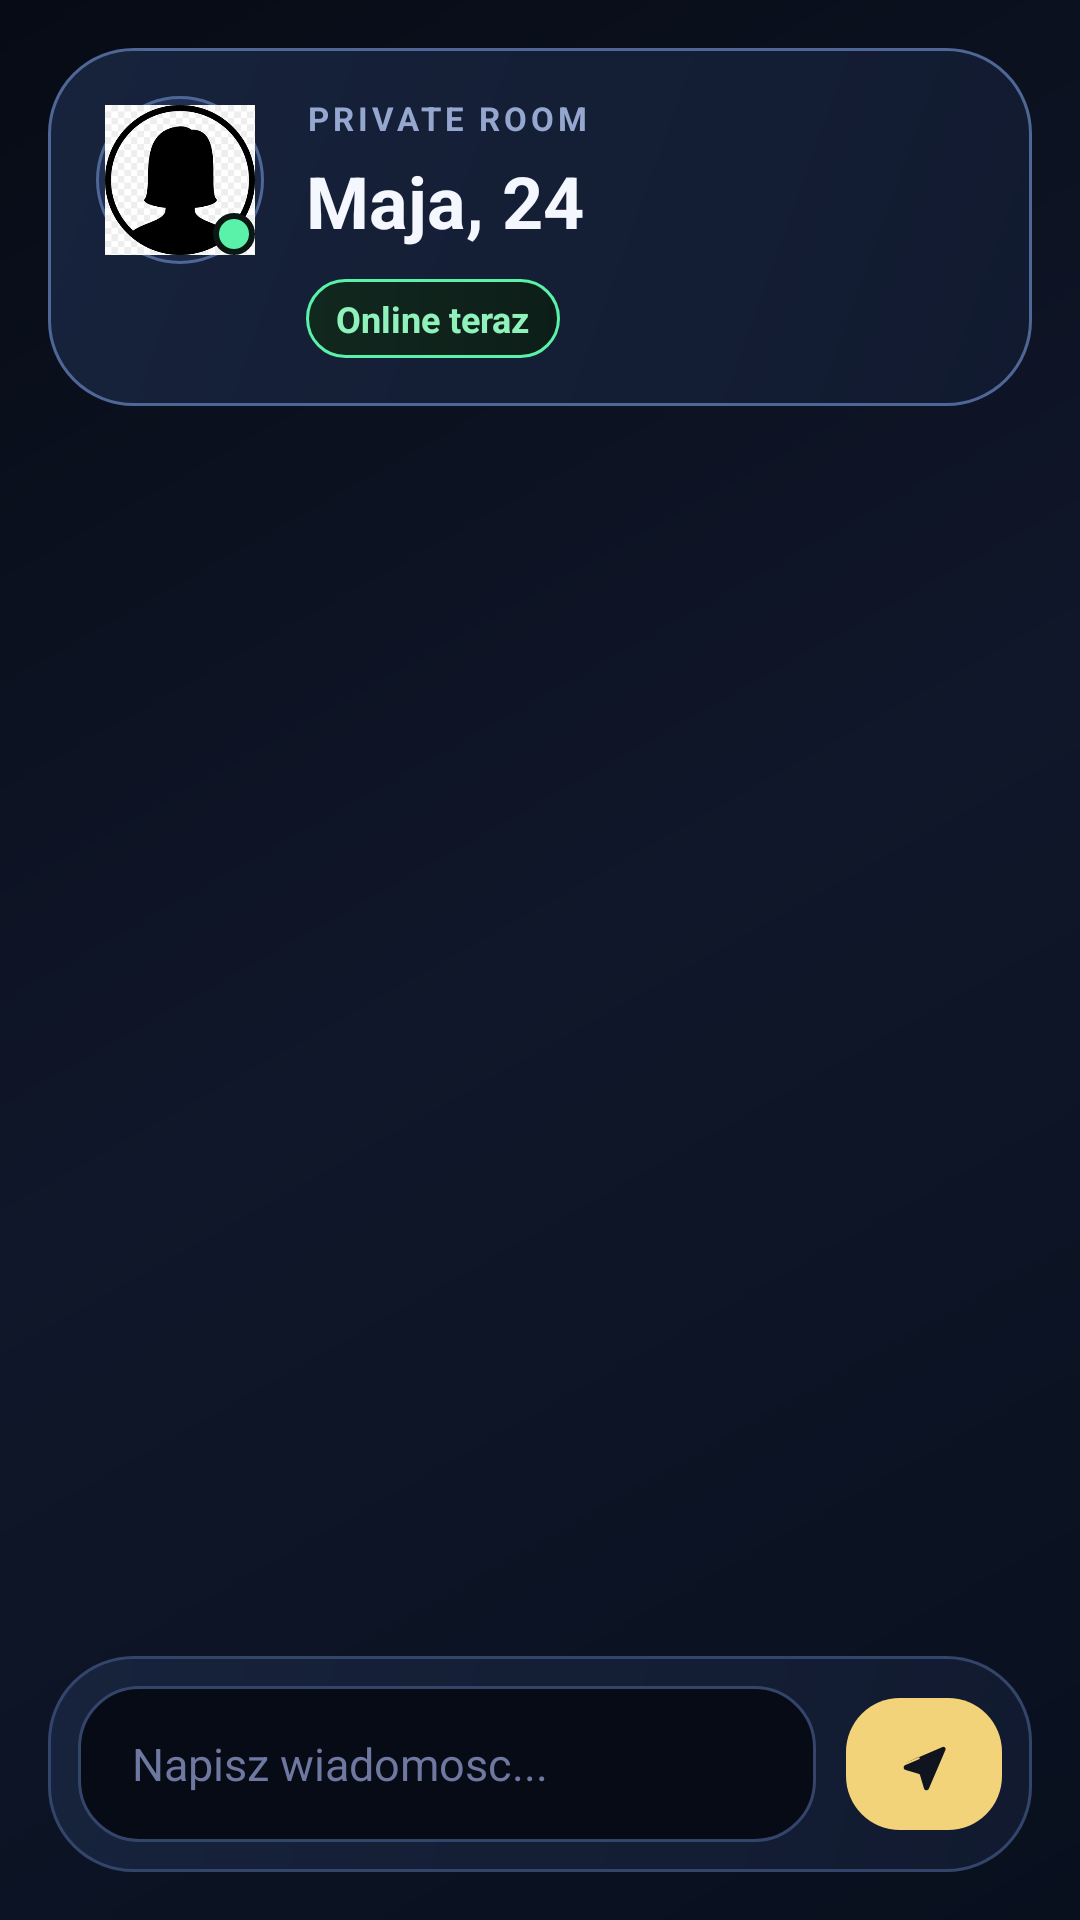

Named icons in this screenshot (1080px×1920px) and their centers, point (x, y):
kobieta profile: point (180, 180)
